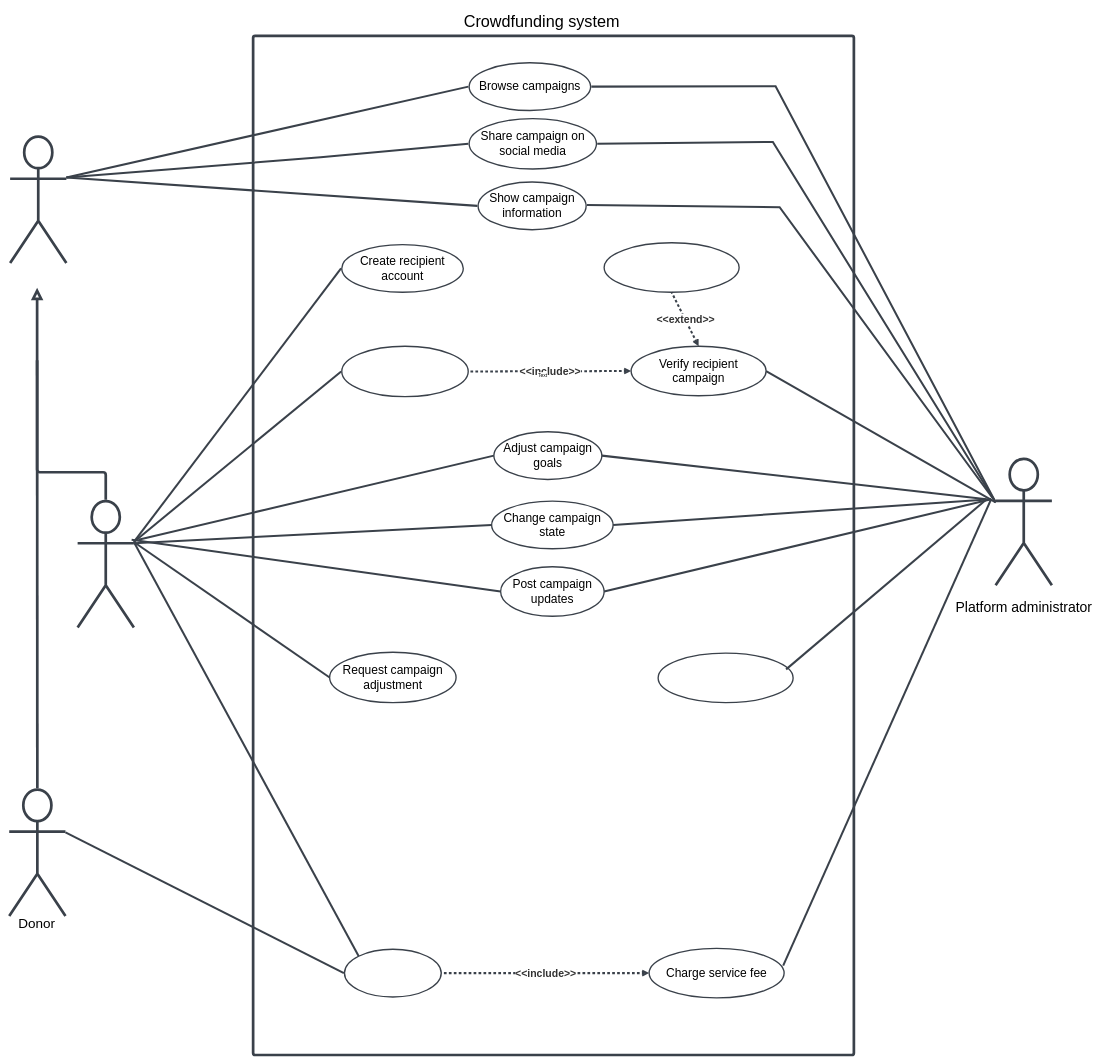
The diagram is 1110 pixels wide and 1064 high, and some of its shapes have lost their labels. Here are the shapes that lost their labels. From the top down, the centre of each, then its label:
At point 38,199: "End user".
At point 671,267: "Activate recipient campaign".
At point 405,371: "Apply for campaign creation".
At point 105,564: "Recipient".
At point 725,677: "Manage recipient campaigns".
At point 393,972: "Donate to recipient".
